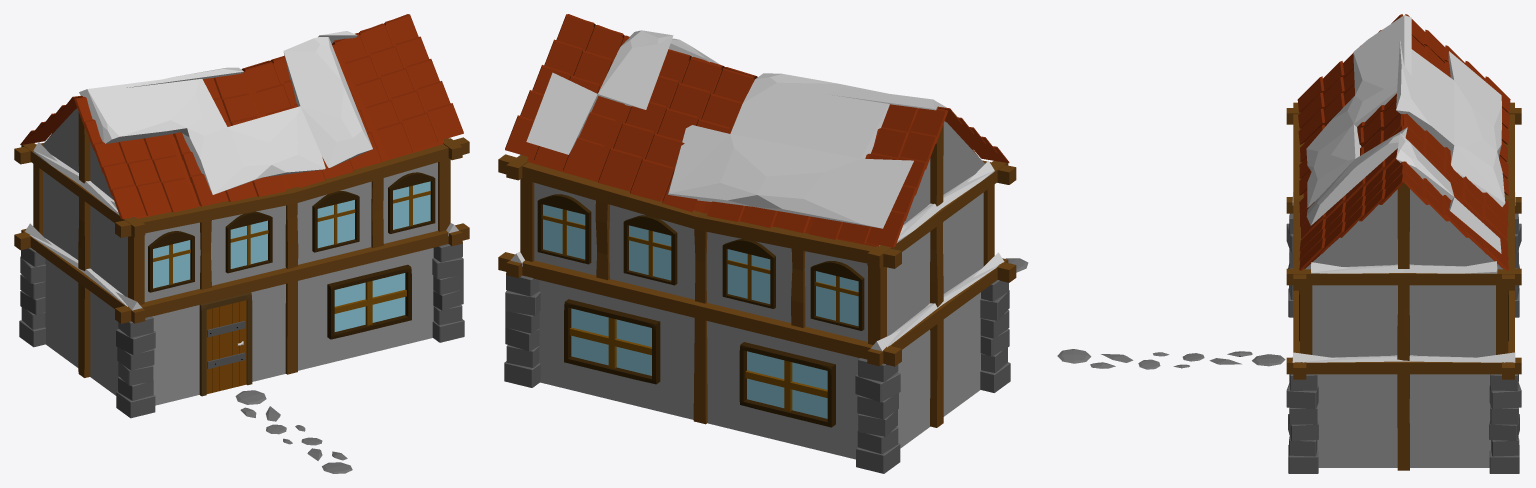
The model's file is House_07.fbx.
3 views of the same model, side by side, from view 1: azimuth 30°, elevation 25°; view 2: azimuth 150°, elevation 25°; view 3: azimuth 270°, elevation 25° (orthographic). The views are drawn at different scales.
Parts seen in each view (by area): view 1: House_07, House_07_Roof, House_07_Snow, House_07_Detail_01, House_07_Windows_Detail_01, House_07_Stones_01, House_07_Windows_Detail_03, House_07_Door_Detail_03, House_07_Door_Detail_04, House_07_Stones_02, House_07_Windows_Detail_02, House_07_Windows_Detail_04 (+1 smaller); view 2: House_07, House_07_Snow, House_07_Detail_01, House_07_Roof, House_07_Windows_Detail_01, House_07_Stones_01, House_07_Windows_Detail_03, House_07_Windows_Detail_04, House_07_Windows_Detail_02; view 3: House_07, House_07_Snow, House_07_Roof, House_07_Detail_01, House_07_Stones_01, House_07_Stones_02.
Boxes of the visible parts, x1=… form: House_07: x1=42, y1=25, x2=444, y2=405; House_07_Roof: x1=20, y1=14, x2=463, y2=219; House_07_Snow: x1=25, y1=31, x2=458, y2=310; House_07_Detail_01: x1=14, y1=112, x2=469, y2=377; House_07_Windows_Detail_01: x1=148, y1=172, x2=435, y2=292; House_07_Stones_01: x1=19, y1=242, x2=464, y2=418; House_07_Windows_Detail_03: x1=327, y1=264, x2=411, y2=339; House_07_Door_Detail_03: x1=206, y1=300, x2=246, y2=393; House_07_Door_Detail_04: x1=199, y1=292, x2=252, y2=396; House_07_Stones_02: x1=235, y1=390, x2=352, y2=473; House_07_Windows_Detail_02: x1=153, y1=185, x2=430, y2=284; House_07_Windows_Detail_04: x1=334, y1=281, x2=406, y2=325; House_07: x1=527, y1=26, x2=984, y2=459; House_07_Snow: x1=510, y1=30, x2=1004, y2=351; House_07_Detail_01: x1=498, y1=124, x2=1016, y2=427; House_07_Roof: x1=505, y1=14, x2=1009, y2=247; House_07_Windows_Detail_01: x1=537, y1=194, x2=864, y2=330; House_07_Stones_01: x1=504, y1=273, x2=1010, y2=473; House_07_Windows_Detail_03: x1=564, y1=299, x2=835, y2=427; House_07_Windows_Detail_04: x1=569, y1=317, x2=827, y2=411; House_07_Windows_Detail_02: x1=542, y1=209, x2=858, y2=321; House_07: x1=1303, y1=42, x2=1503, y2=467; House_07_Snow: x1=1292, y1=15, x2=1515, y2=362; House_07_Roof: x1=1297, y1=14, x2=1510, y2=270; House_07_Detail_01: x1=1286, y1=102, x2=1521, y2=470; House_07_Stones_01: x1=1286, y1=213, x2=1521, y2=473; House_07_Stones_02: x1=1057, y1=349, x2=1285, y2=369.
Size of the model in its own units: 684 by 541 by 762.
